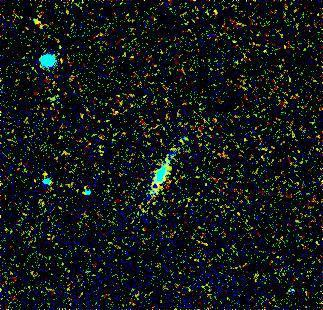star: (23, 6, 53, 36)
